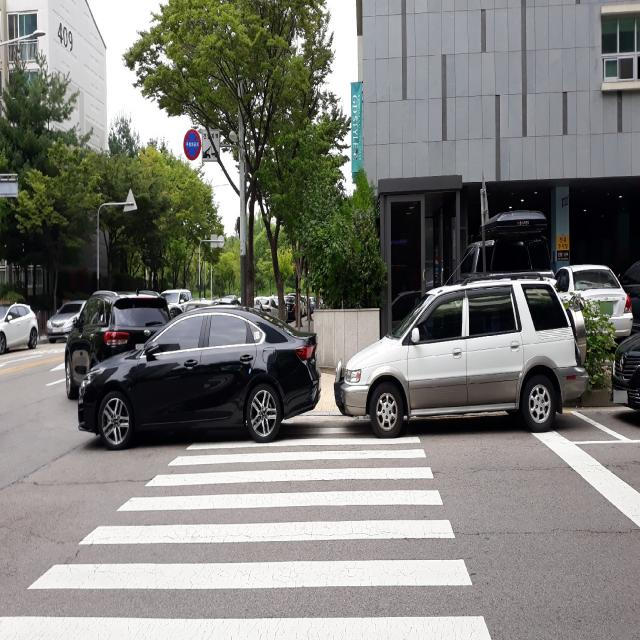횡단보도: (0, 427, 493, 640)
